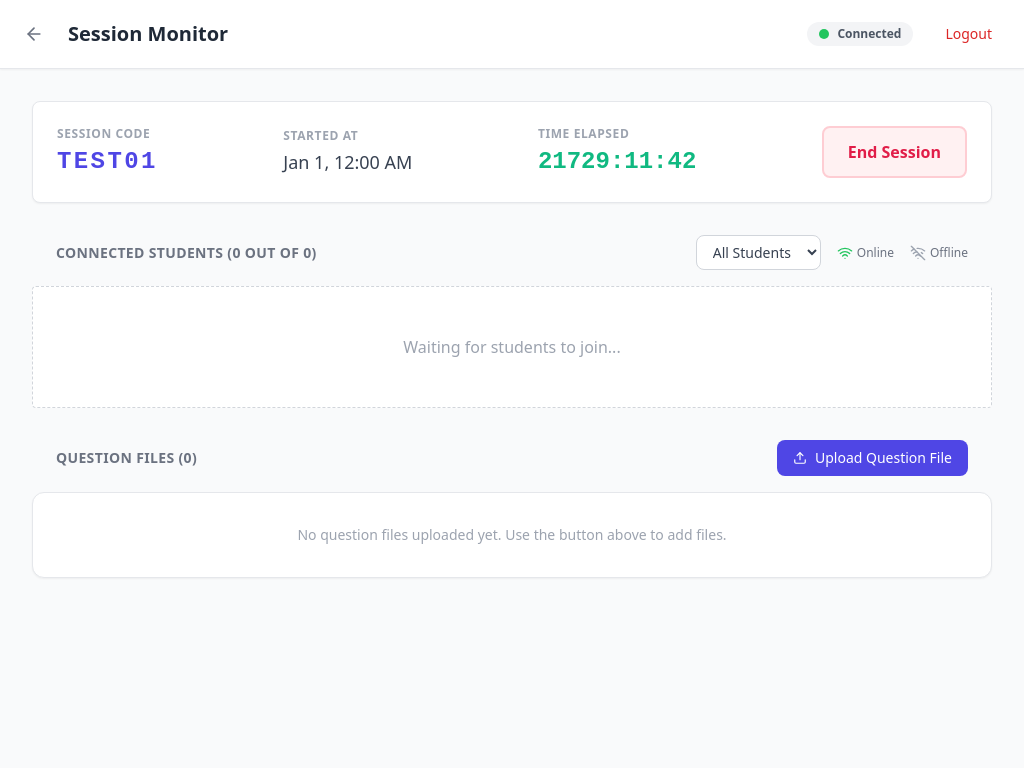
Test: SessionDetail — Reliability & Security › End Session Modal Safeguards › should not end session when cancel is clicked in modal
This screenshot has width=1024, height=768.
Click the button "End Session": (894, 152) [822,126,967,178]
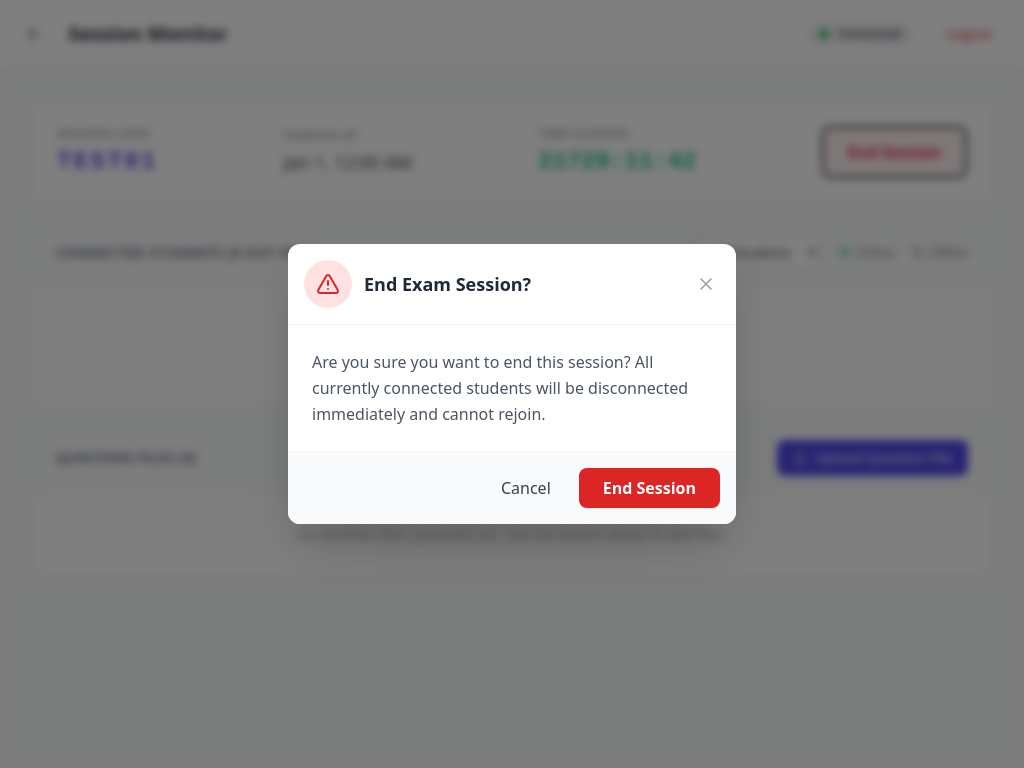
Now the text "End Exam Session?" is shown, box [364,272,531,296]
Note: Click Cancel
Click the button "Cancel": (526, 488) [485,468,567,508]
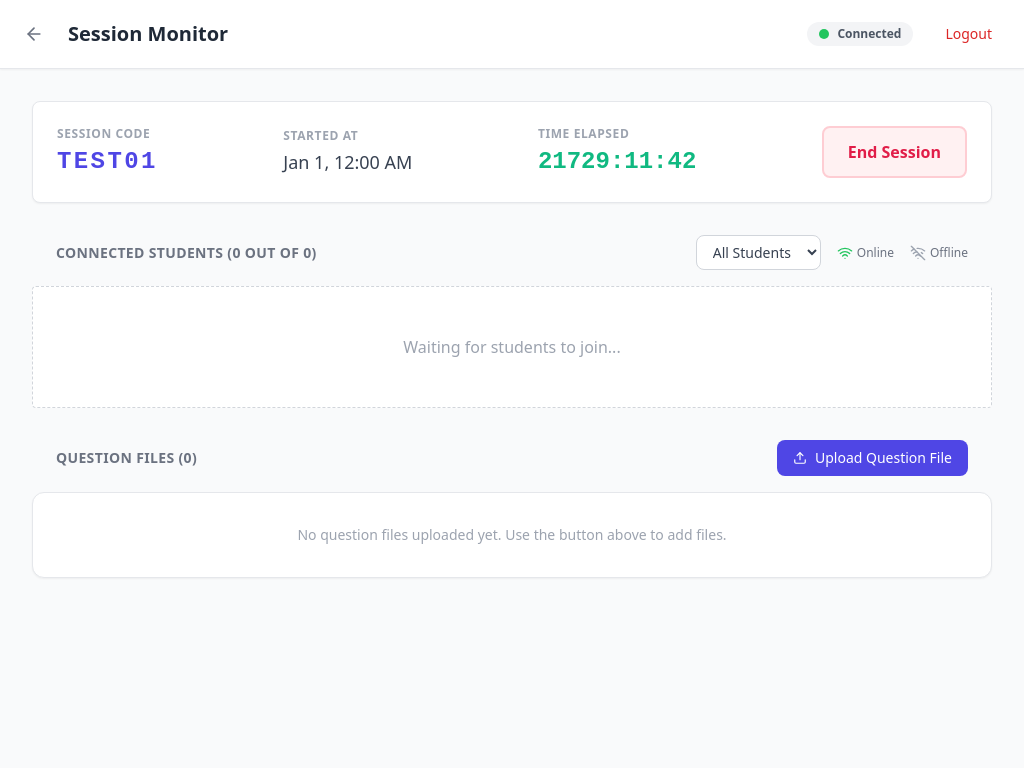
Now the text "End Exam Session?" is gone
